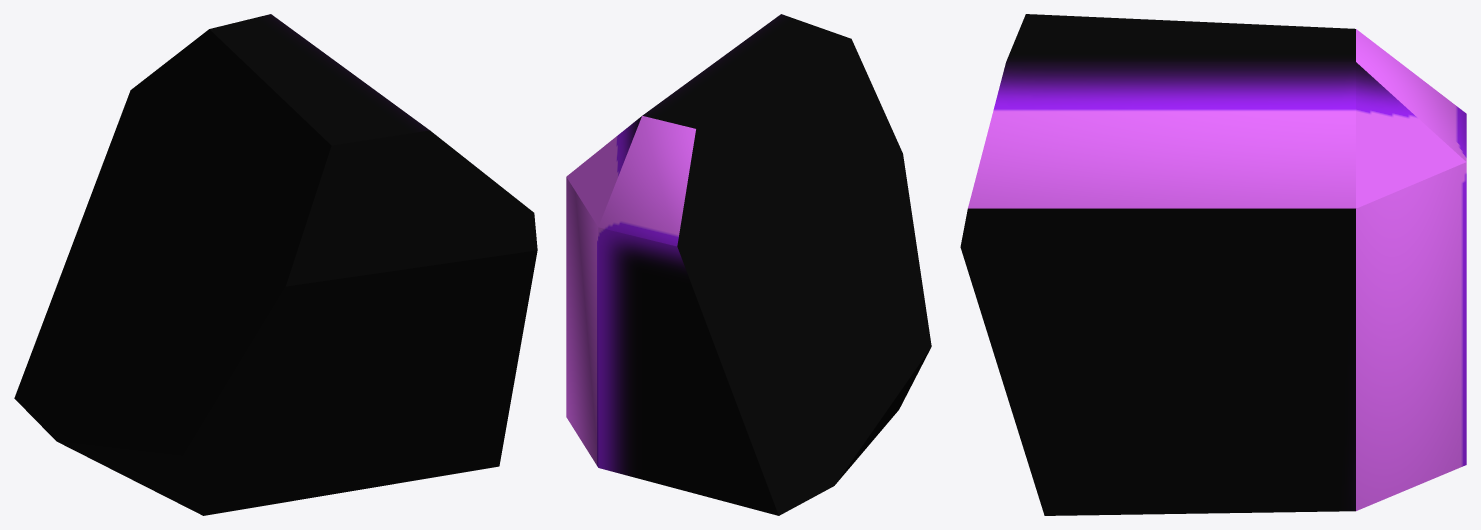
Rendered from blockParticle_2.obj.
3 renders of one model, left to right at view 1: azimuth 30°, elevation 25°; view 2: azimuth 150°, elevation 25°; view 3: azimuth 270°, elevation 25°, orthographic. The views are drawn at different scales.
Parts seen in each view (by area): view 1: 立方体_cell.002; view 2: 立方体_cell.002; view 3: 立方体_cell.002.
Boxes of the visible parts, bbox=[...] form: 立方体_cell.002: bbox=[14, 14, 537, 515]; 立方体_cell.002: bbox=[566, 14, 931, 515]; 立方体_cell.002: bbox=[960, 14, 1466, 515].
Size of the model in its own units: 0.7422 by 0.8748 by 0.972.
2 materials, 2 textured.
